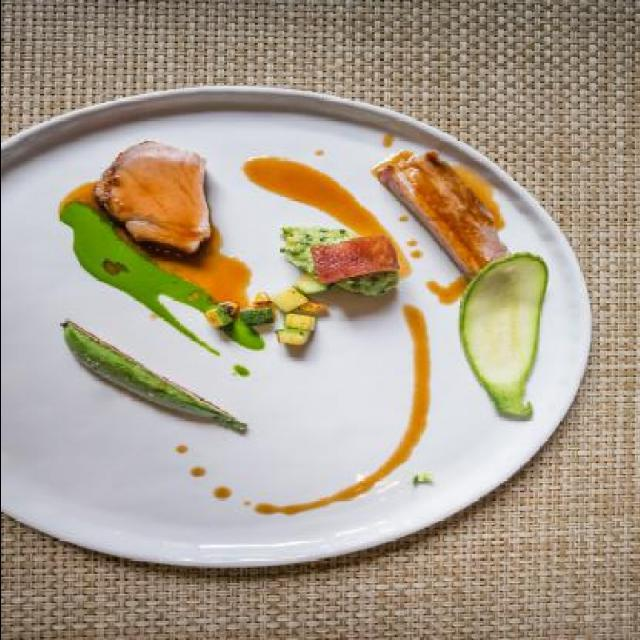Zucchini: (454, 250, 558, 421)
